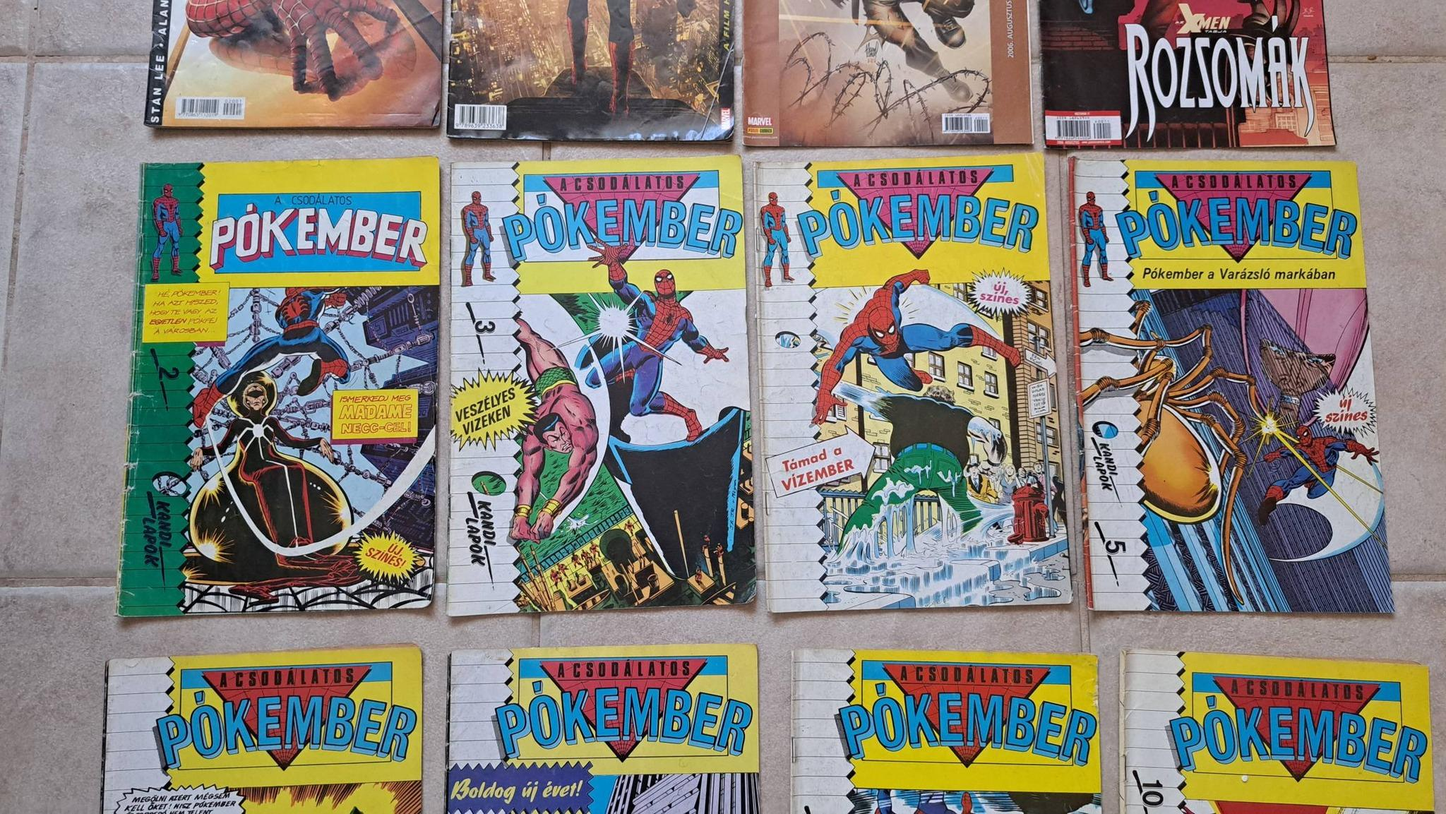comic: (1065, 144, 1393, 627), (118, 156, 440, 618), (436, 156, 757, 614), (767, 148, 1072, 618)
